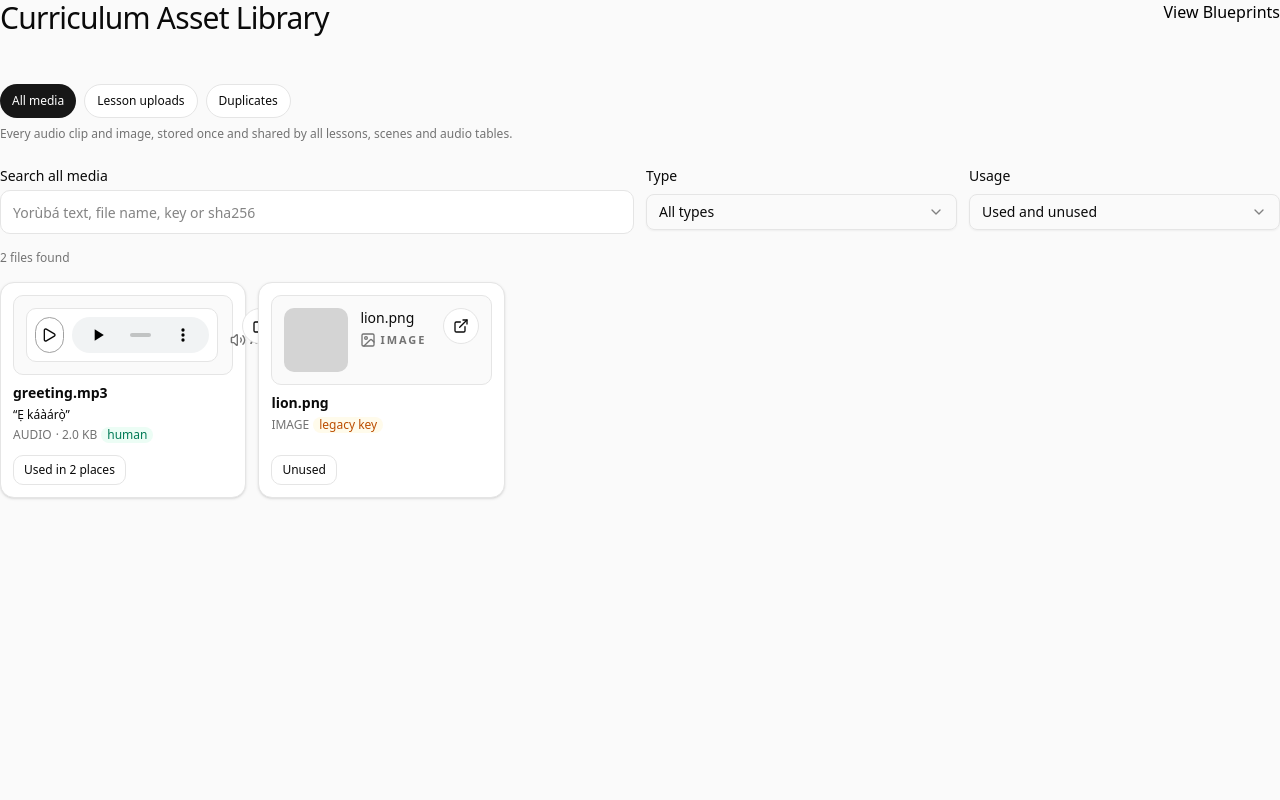
CurriculumAssetLibraryPage › lists where a file is used on demand
Click the button "Used in 2 places" at [69, 470], box left=13, top=455, right=126, bottom=485
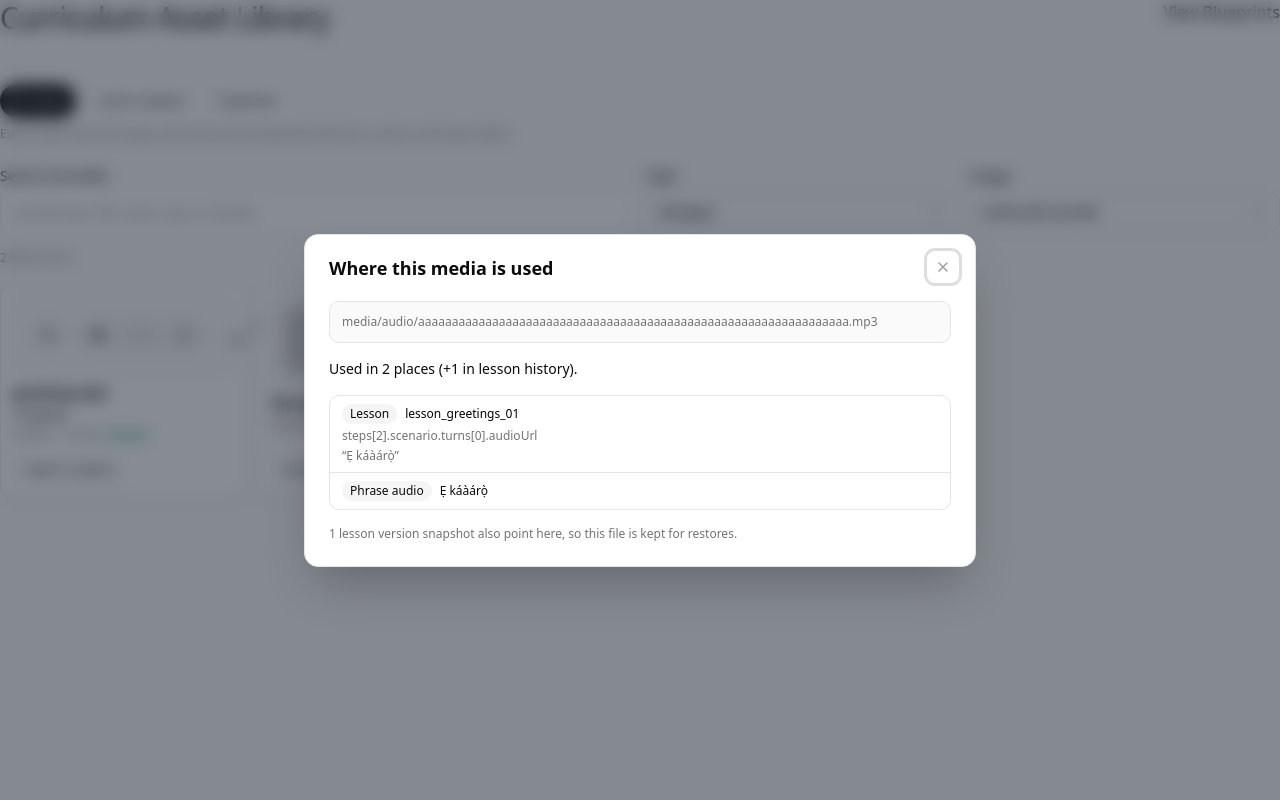
Result: the text "steps[2].scenario.turns[0].audioUrl" is shown at left=342, top=426, right=538, bottom=444
Result: the text "Phrase audio" is shown at left=342, top=480, right=432, bottom=500
Result: the text "1 lesson version snapshot also point here" is shown at left=329, top=524, right=737, bottom=542
